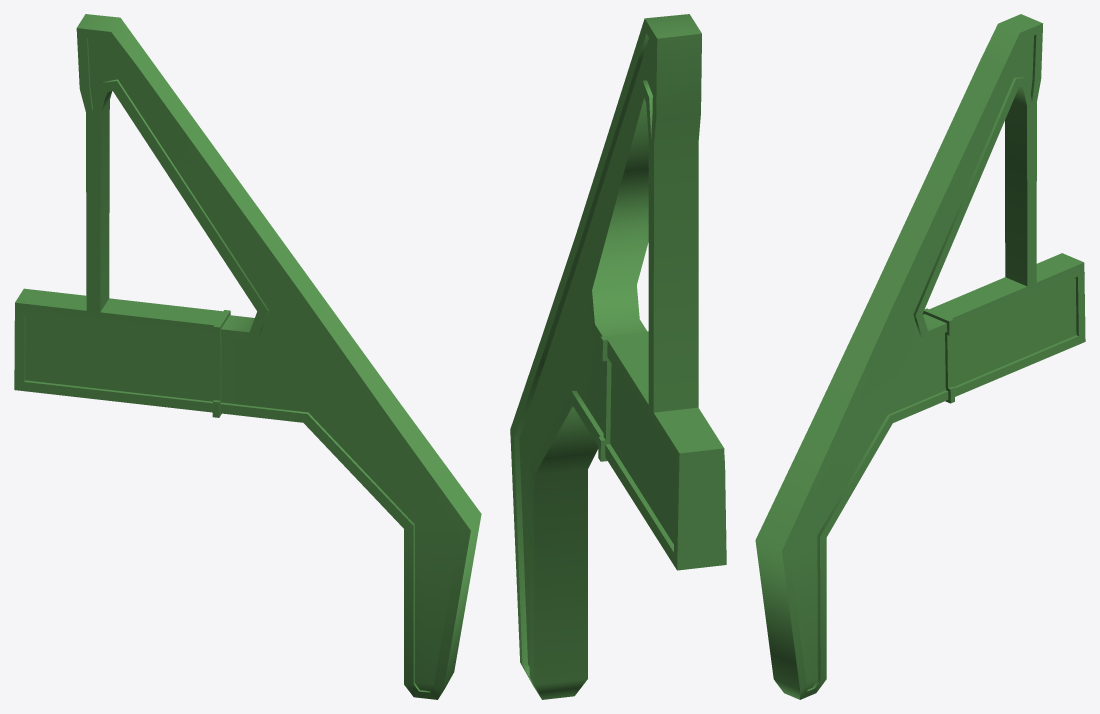
The model's file is Portal crane leg.fbx.
The picture shows the model from 3 angles, left to right: view 1: azimuth 30°, elevation 25°; view 2: azimuth 150°, elevation 25°; view 3: azimuth 270°, elevation 25°; orthographic projection. The views are drawn at different scales.
Visible parts, largest first — view 1: Cube; view 2: Cube; view 3: Cube.
Boxes of the visible parts, x1=… form: Cube: x1=14, y1=14, x2=481, y2=699; Cube: x1=510, y1=14, x2=726, y2=699; Cube: x1=755, y1=14, x2=1085, y2=699.
Bounding box in the file's own units: 115 × 222 × 115.
